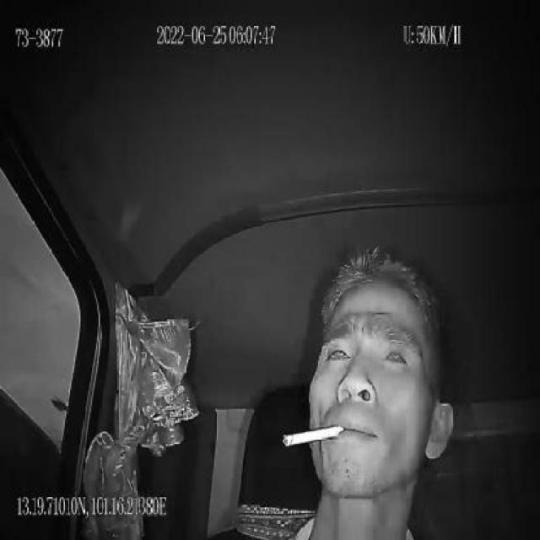smoking: (284, 423, 345, 447)
